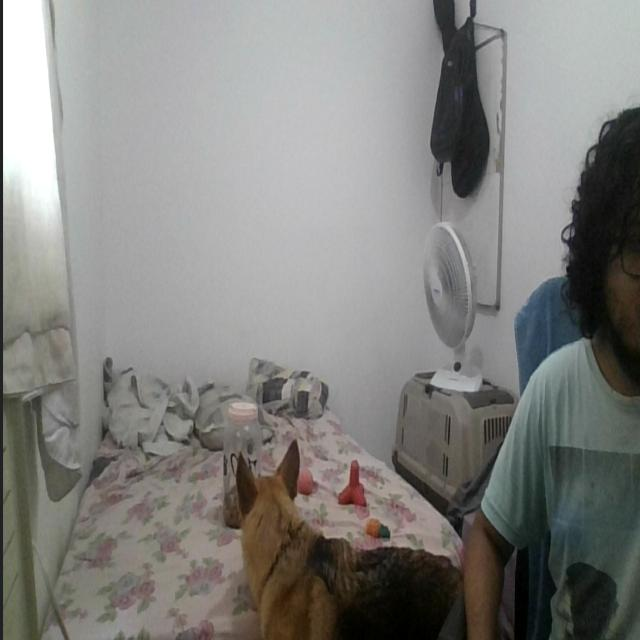bolinha: (294, 466, 314, 501)
brinquedo caro: (333, 458, 368, 513)
cachorro: (232, 448, 462, 640)
cenora de brinquedo: (364, 506, 392, 542)
humano: (460, 101, 640, 640)
racao: (222, 397, 260, 543)
